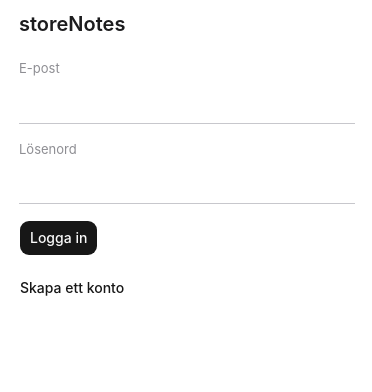
it: creating an account › creates the account and says to confirm by email, then offers sign-in
Click the button "Skapa ett konto".
click(72, 288)  # box [19,272,125,304]
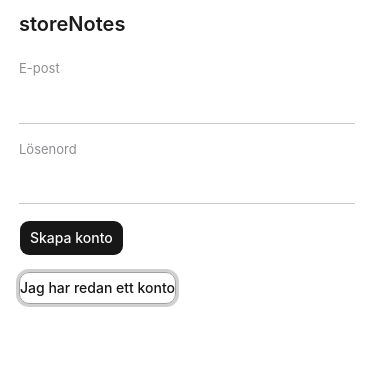
Type "Anna@Example.com" into the field labelled "E-post".
click(187, 103); type("Anna@Example.com")  # box [19,82,355,124]
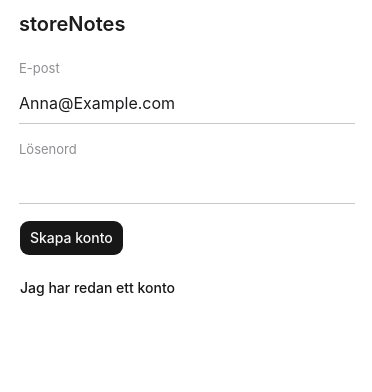
Type "correct horse" into the password field labelled "Lösenord".
click(187, 184); type("correct horse")  # box [19,163,355,204]
Then press Enter
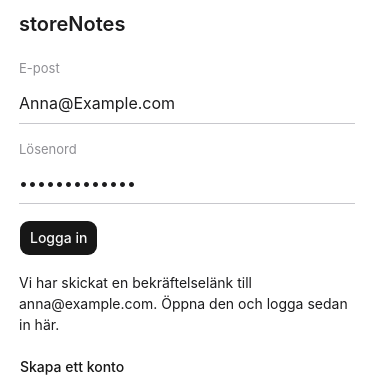
expect the message shows "Vi har skickat en bekräftelselänk till anna@example.com.": met, box [19,274,348,333]
expect the button "Logga in" is shown: met, box [19,220,98,256]
